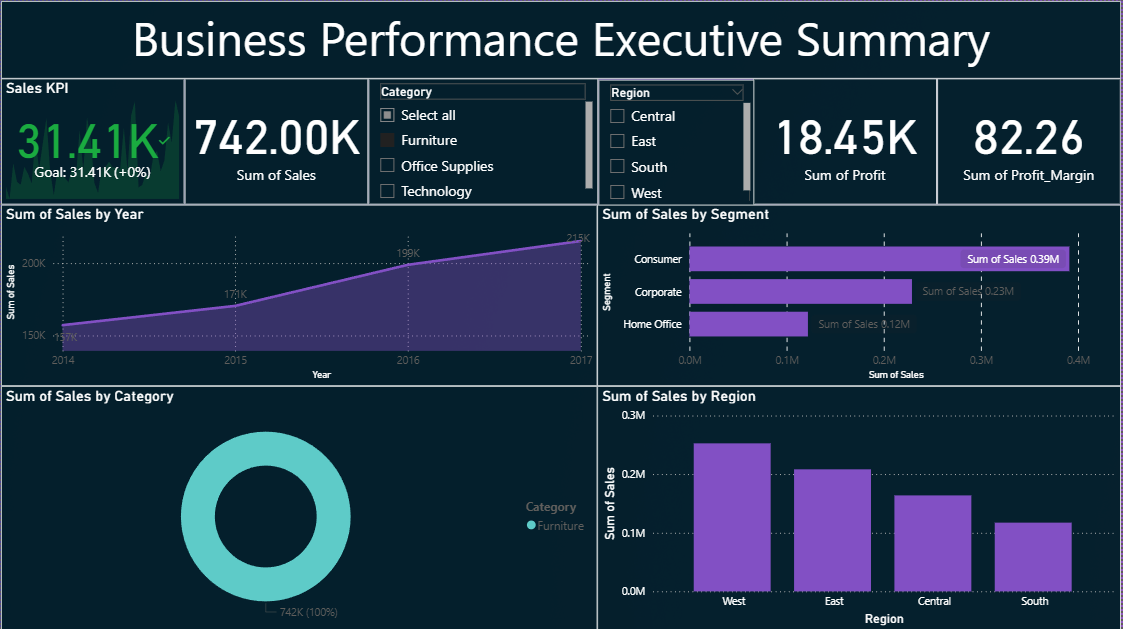

This screenshot's page, from the dashboard's own definition file:
{"tool":"powerbi","page":{"name":"Page 1","canvas":[1280,720],"ordinal":0},"visuals":[{"type":"lineChart","fields":{"Category":["Superstore_clean.MonthYear.Variation.Date Hierarchy.Year","Superstore_clean.MonthYear.Variation.Date Hierarchy.Quarter","Superstore_clean.MonthYear.Variation.Date Hierarchy.Month","Superstore_clean.MonthYear.Variation.Date Hierarchy.Day"],"Y":["Sum(Superstore_clean.Sales)"]},"box":[0,233.3,682,207.2],"z":0},{"type":"clusteredColumnChart","fields":{"Category":["Superstore_clean.Region"],"Y":["Sum(Superstore_clean.Sales)"]},"box":[682,440.5,598.3,279.9],"z":1000},{"type":"donutChart","fields":{"Category":["Superstore_clean.Category"],"Y":["Sum(Superstore_clean.Sales)"]},"box":[0,440.5,682,279.9],"z":2000},{"type":"kpi","title":"Sales KPI","fields":{"Indicator":["Sum(Superstore_clean.Sales)"],"TrendLine":["Superstore_clean.YearMonth"],"Goal":["Sum(Superstore_clean.Sales)"]},"box":[0,89.2,209.9,144.1],"z":3000},{"type":"slicer","fields":{"Values":["Superstore_clean.Region"]},"box":[682.9,89.6,179.1,144.3],"z":4000},{"type":"slicer","fields":{"Values":["Superstore_clean.Category"]},"box":[419.9,89.2,262.1,144.1],"z":5000},{"type":"card","fields":{"Values":["Sum(Superstore_clean.Sales)"]},"box":[209.9,89.2,209.9,144.1],"z":6000},{"type":"card","fields":{"Values":["Sum(Superstore_clean.Profit)"]},"box":[860.4,89.2,209.9,144.1],"z":7000},{"type":"card","fields":{"Values":["Sum(Superstore_clean.Profit_Margin)"]},"box":[1070.3,89.2,209.9,144.1],"z":8000},{"type":"clusteredBarChart","fields":{"Category":["Superstore_clean.Segment"],"Y":["Sum(Superstore_clean.Sales)"]},"box":[682,233.3,598.3,207.2],"z":9000},{"type":"textbox","box":[0,0,1280.3,89.2],"z":10000}]}

Visuals, with their boxes in screenshot pixels (x1, y1, x2, y2), scaled from the page's 1280x720 canvas onto the 1123x629 screenshot:
lineChart - Superstore_clean.MonthYear.Variation.Date Hierarchy.Year x Superstore_clean.MonthYear.Variation.Date Hierarchy.Quarter: [0, 204, 598, 385]
clusteredColumnChart - Superstore_clean.Region x Sum(Superstore_clean.Sales): [598, 385, 1122, 628]
donutChart - Superstore_clean.Category x Sum(Superstore_clean.Sales): [0, 385, 598, 628]
"Sales KPI" kpi: [0, 78, 184, 204]
slicer - Superstore_clean.Region: [599, 78, 756, 204]
slicer - Superstore_clean.Category: [368, 78, 598, 204]
card - Sum(Superstore_clean.Sales): [184, 78, 368, 204]
card - Sum(Superstore_clean.Profit): [755, 78, 939, 204]
card - Sum(Superstore_clean.Profit_Margin): [939, 78, 1122, 204]
clusteredBarChart - Superstore_clean.Segment x Sum(Superstore_clean.Sales): [598, 204, 1122, 385]
textbox: [0, 0, 1122, 78]
